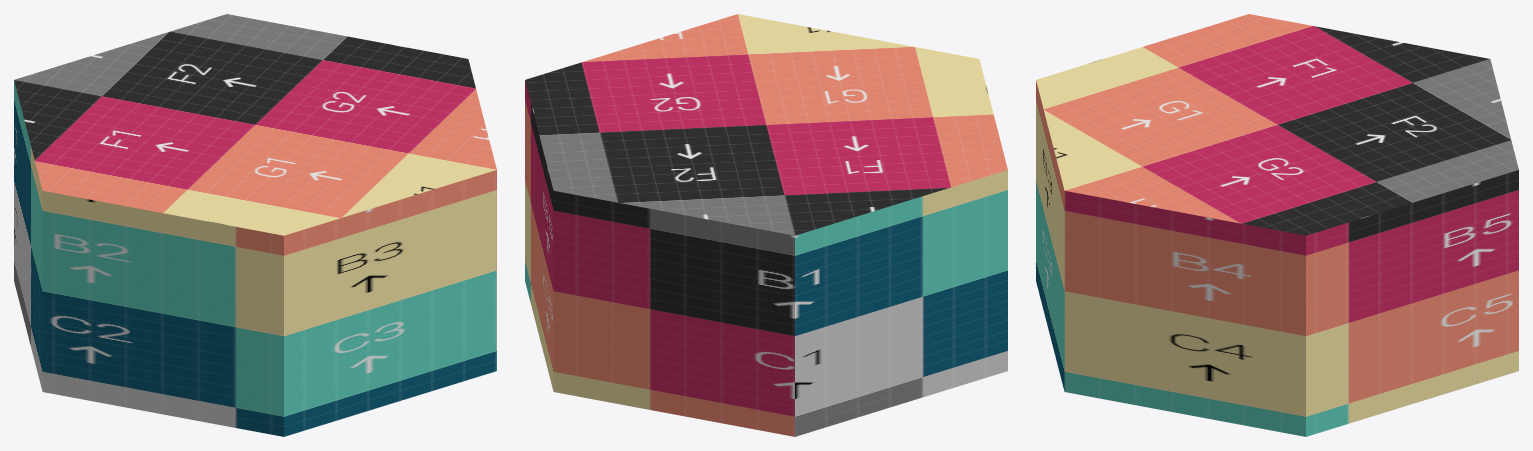
The model's file is cat.glb.
3 renders of one model, left to right at view 1: azimuth 30°, elevation 25°; view 2: azimuth 150°, elevation 25°; view 3: azimuth 270°, elevation 25°, orthographic.
Visible parts, largest first — view 1: col_cat; view 2: col_cat; view 3: col_cat.
Boxes of the visible parts, x1,y1,x2,y2 form: col_cat: [14, 14, 496, 436]; col_cat: [525, 14, 1007, 436]; col_cat: [1036, 14, 1518, 436].
Bounding box in the file's own units: 0.9993 × 0.4229 × 0.9198.
1 material, 1 textured.
